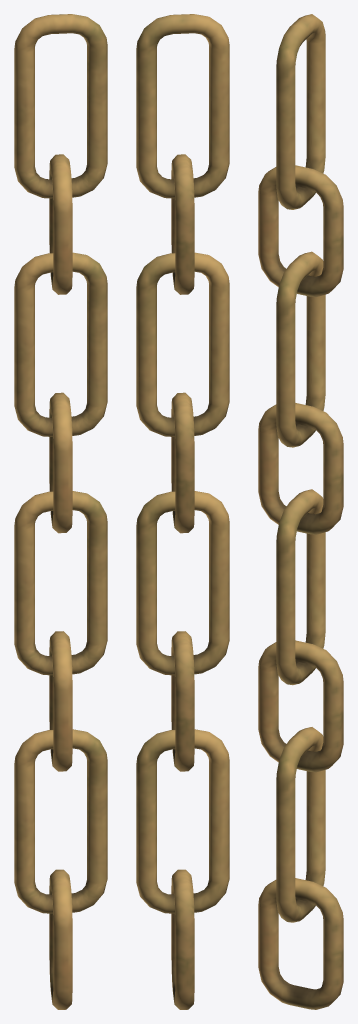
File: SM_ChainPart.FBX
3 renders of one model, left to right at view 1: azimuth 30°, elevation 25°; view 2: azimuth 210°, elevation 25°; view 3: azimuth 270°, elevation 25°, orthographic.
Parts seen in each view (by area): view 1: SM_ChainPart; view 2: SM_ChainPart; view 3: SM_ChainPart.
Part boxes in pixels (box(x1,y1,x2,y2)): SM_ChainPart: box(14, 14, 107, 1009); SM_ChainPart: box(136, 14, 229, 1009); SM_ChainPart: box(258, 14, 343, 1009).
Size of the model in its own units: 8.24 by 8.23 by 105.
